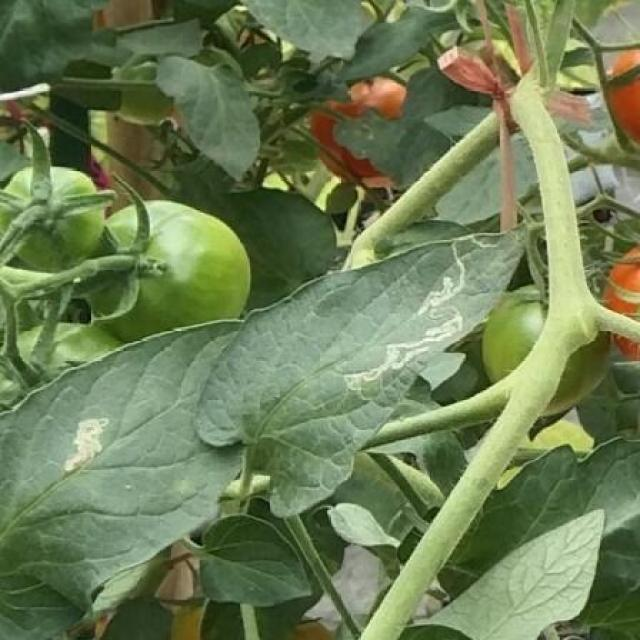Healthy: (201, 513, 316, 608)
Leaf Miner: (195, 223, 535, 518), (0, 313, 246, 640)
